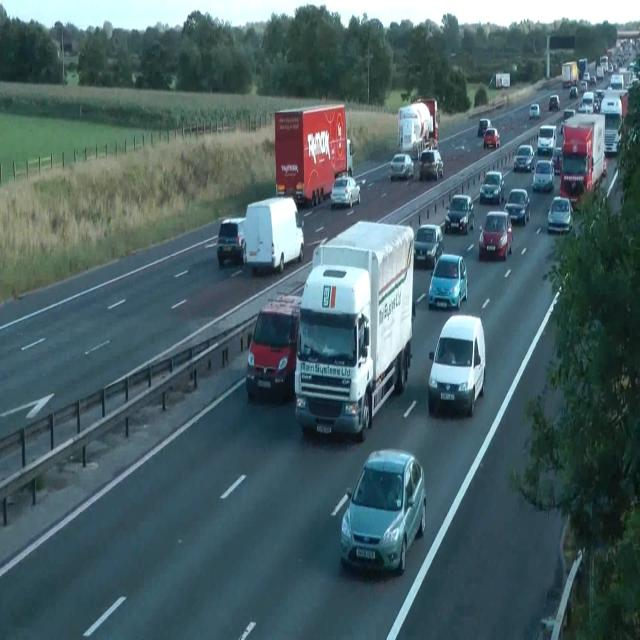bus: (340, 448, 426, 574), (428, 253, 468, 310), (478, 210, 512, 260), (216, 216, 246, 268), (412, 223, 443, 268), (444, 193, 474, 234), (547, 194, 573, 233), (504, 187, 530, 225), (330, 176, 360, 208), (479, 170, 505, 203), (418, 148, 444, 180), (532, 159, 554, 192), (390, 153, 414, 180), (513, 144, 535, 172), (537, 124, 557, 154), (560, 108, 575, 134), (483, 127, 499, 149), (550, 146, 562, 174), (581, 91, 595, 112), (477, 118, 491, 137), (548, 93, 560, 111), (576, 102, 592, 114), (529, 103, 540, 119), (563, 108, 575, 120), (568, 85, 578, 99), (602, 153, 607, 176), (580, 80, 588, 90), (590, 76, 596, 84)
jeep: (245, 293, 301, 402), (428, 314, 486, 416)
minibus: (294, 219, 414, 441), (274, 103, 354, 207), (244, 194, 304, 274), (559, 113, 606, 211), (397, 98, 439, 159), (600, 90, 628, 154), (562, 60, 578, 88), (488, 72, 510, 89), (578, 58, 587, 78)
